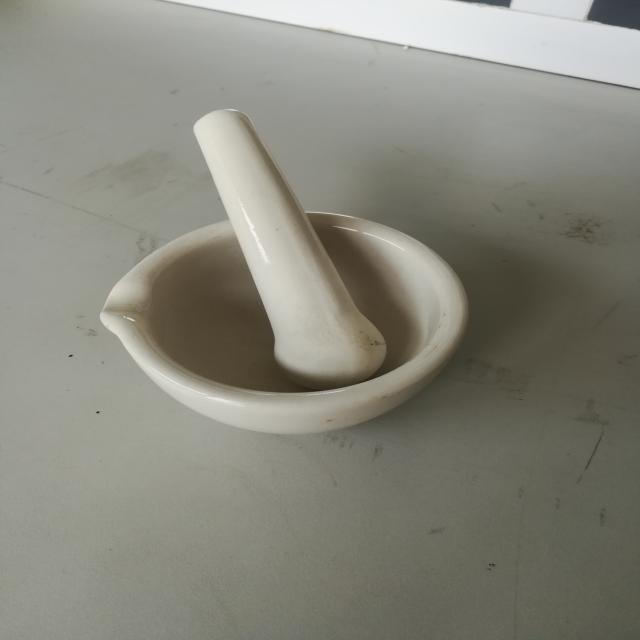Porcelain_Mortar Pestle: (32, 70, 518, 516)
